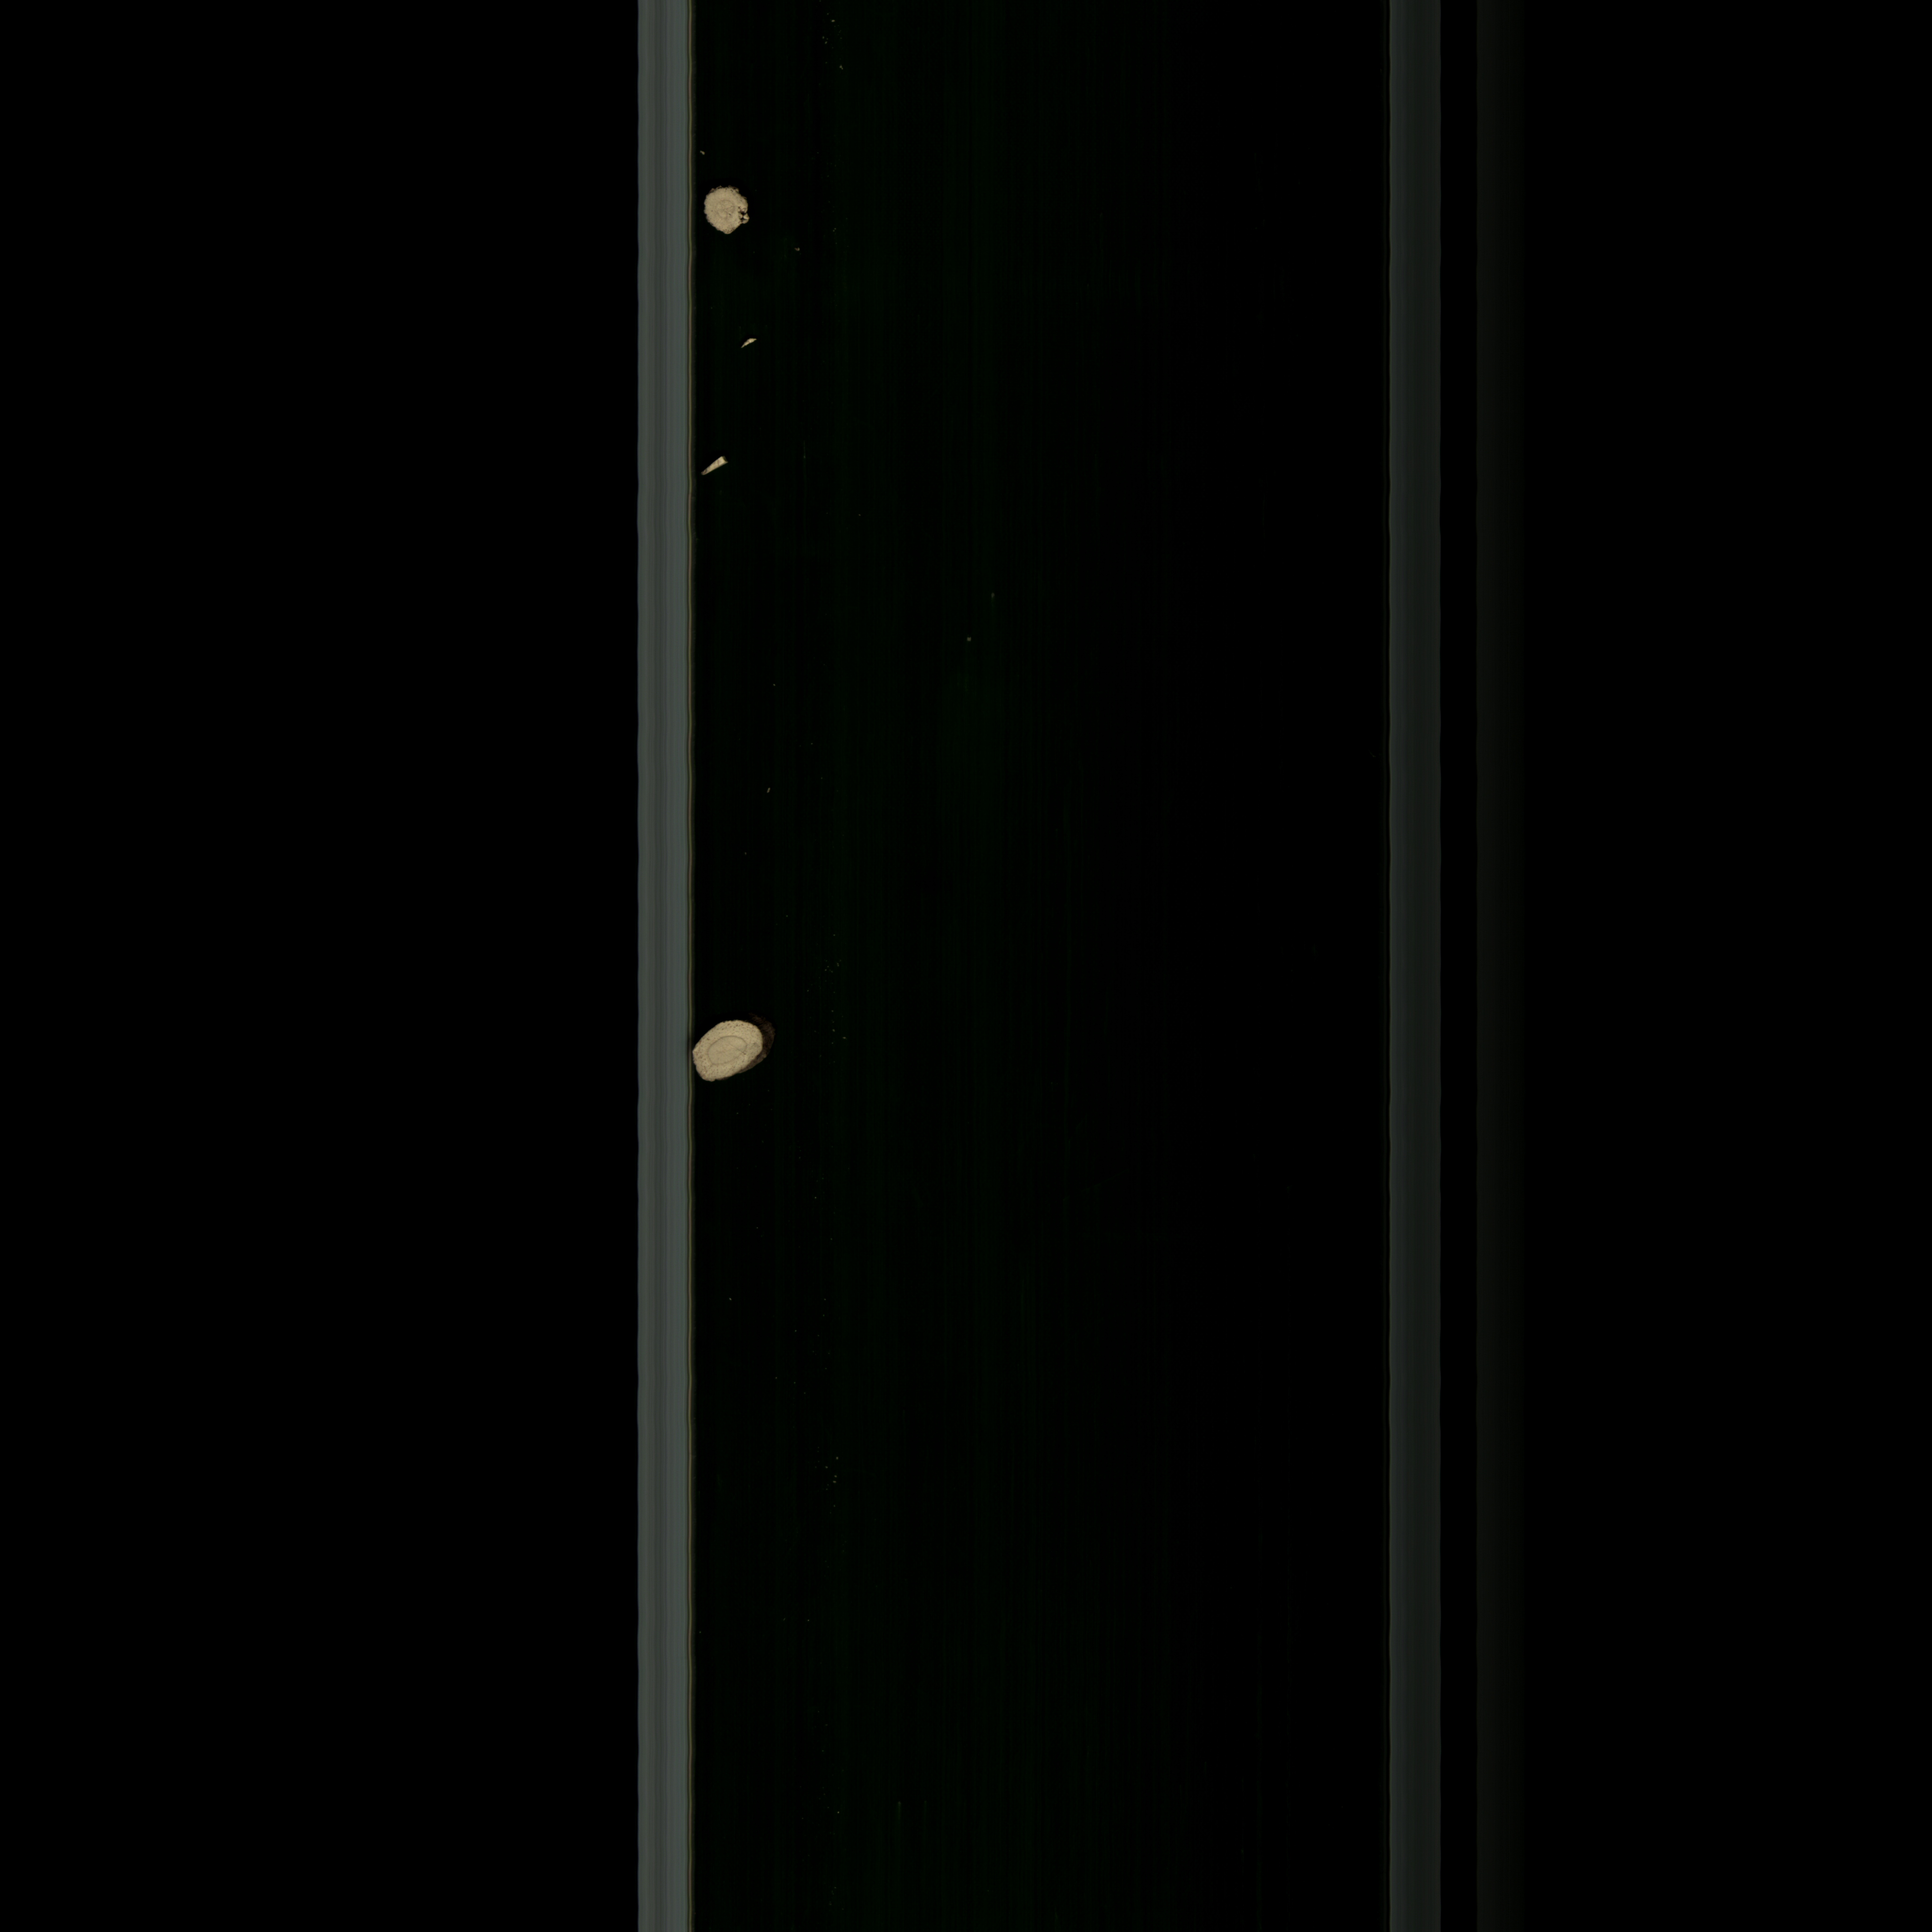dreg: (702, 444, 738, 483), (734, 333, 763, 356)
hole: (699, 180, 771, 255)
